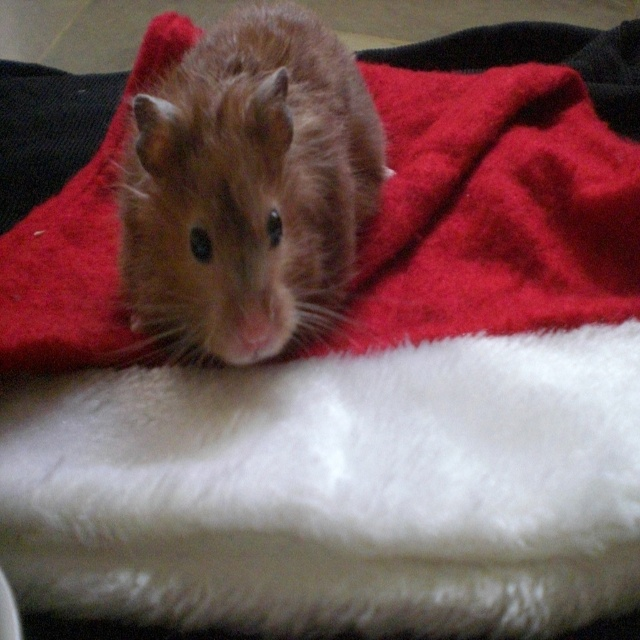Hamster: (93, 0, 403, 390)
